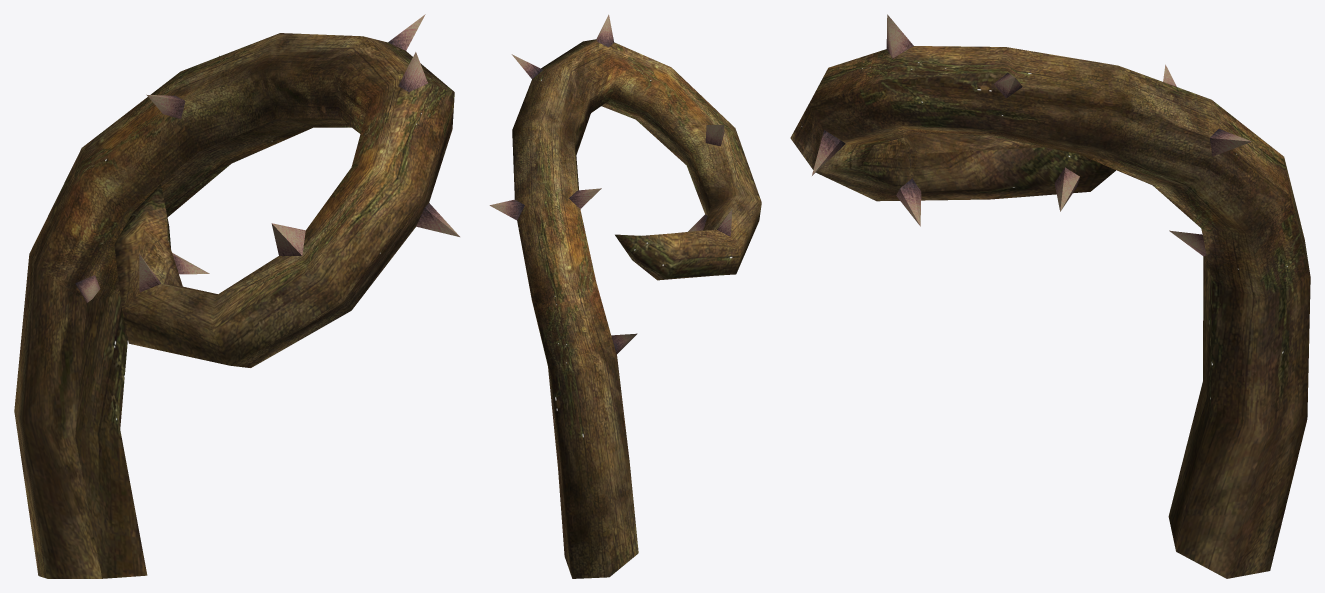
Rendered from obj_mtthund_thorn03.glb.
3 renders of one model, left to right at view 1: azimuth 30°, elevation 25°; view 2: azimuth 150°, elevation 25°; view 3: azimuth 270°, elevation 25°, orthographic. The views are drawn at different scales.
Visible parts, largest first — view 1: obj_mtthund_thorn03; view 2: obj_mtthund_thorn03; view 3: obj_mtthund_thorn03.
Boxes of the visible parts, <box> form: obj_mtthund_thorn03: <box>14,14,459,578</box>; obj_mtthund_thorn03: <box>489,14,761,578</box>; obj_mtthund_thorn03: <box>790,14,1310,578</box>.
Size of the model in its own units: 5.63 by 10.72 by 8.08.
1 material, 1 textured.
